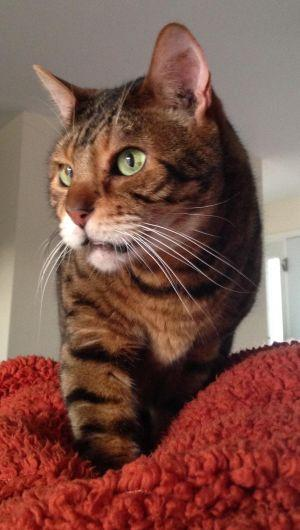bengal: (29, 18, 241, 288)
